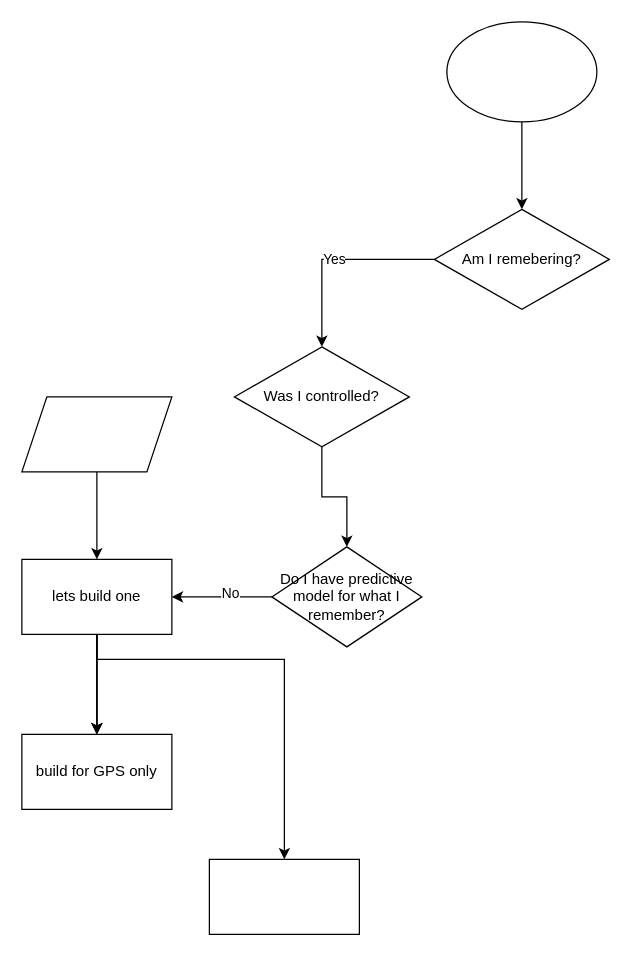
The diagram is 631 pixels wide and 956 high, and some of its shapes have lost their labels. The shapes that lost their labels are listed below. From the top down, each one's centre as x and y in pixels, then its label:
the point at 521,71: Now
the point at 96,434: GPS and LIDAR
the point at 283,896: build for lidar only
